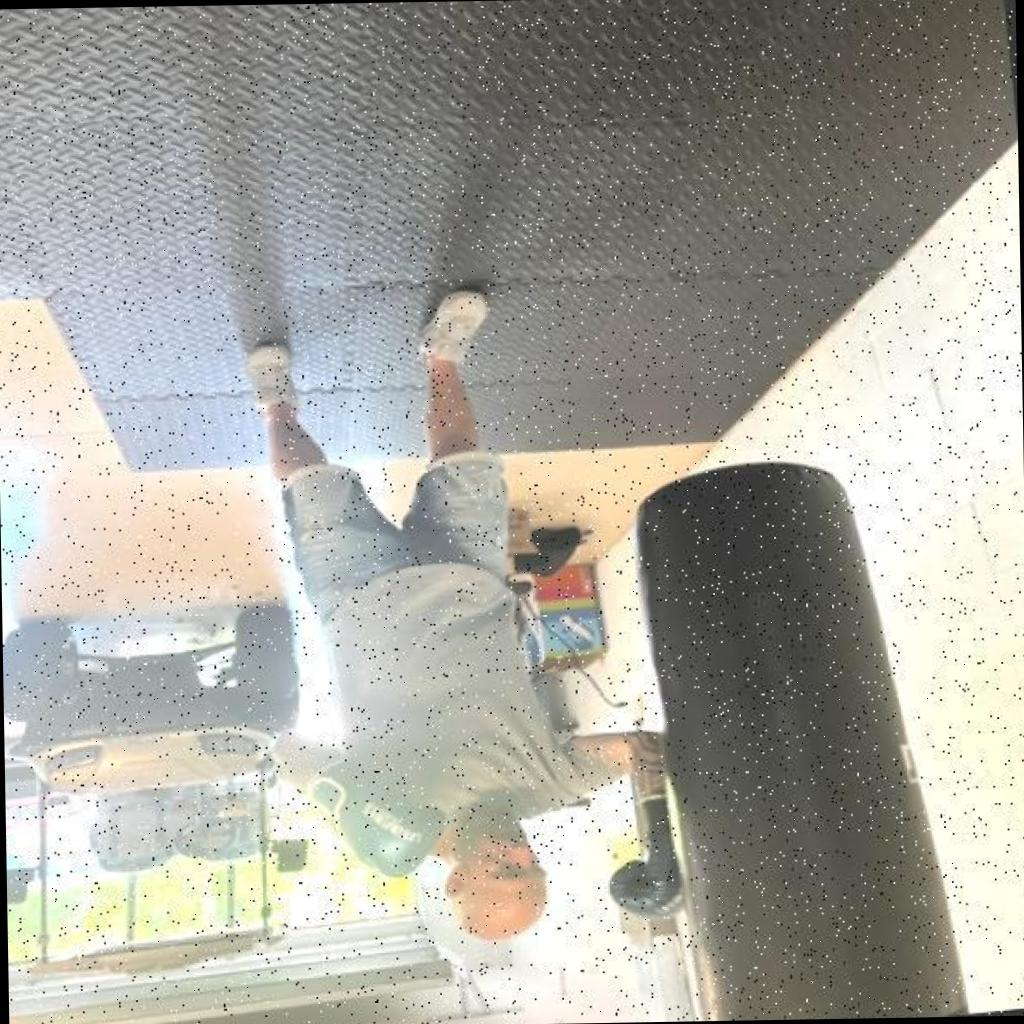uppercut: (276, 676, 730, 1002)
